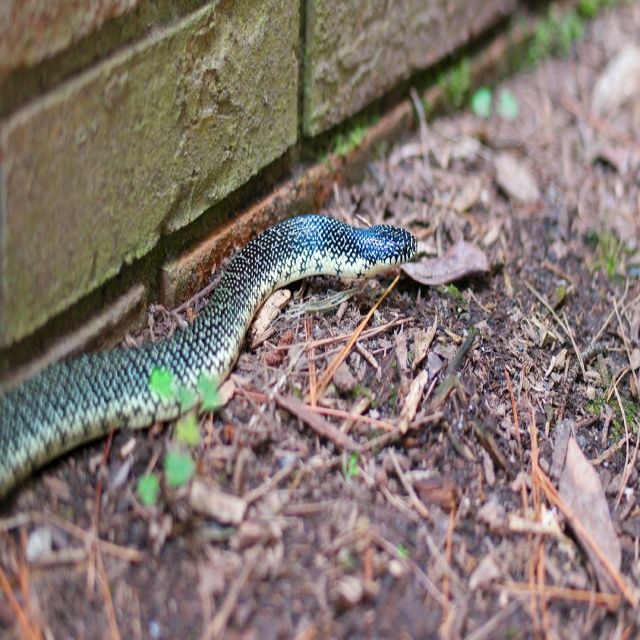Snake: (4, 177, 413, 523)
